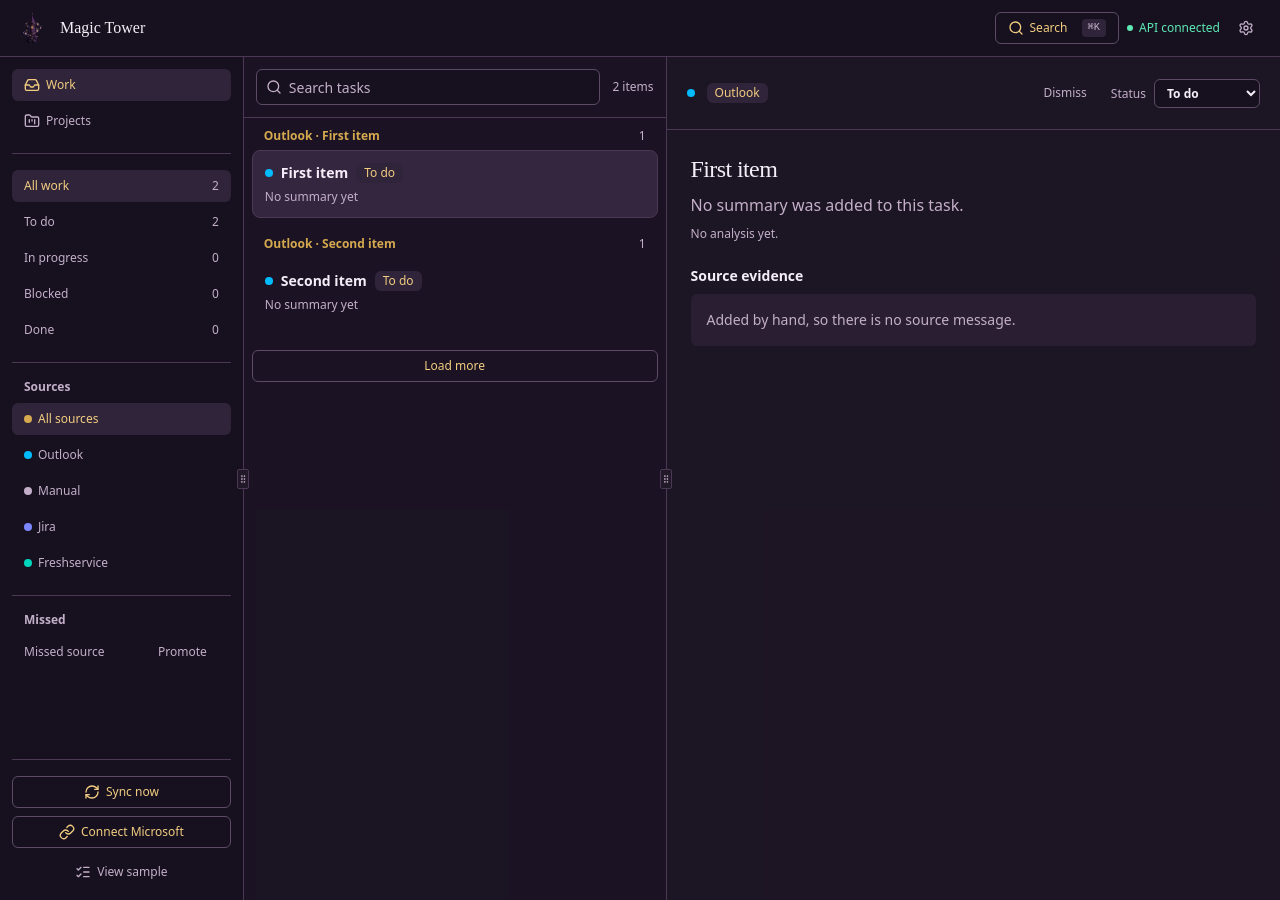
Test: Pagination › pagination requests the next offset when Load more is clicked
The width and height of the screenshot is (1280, 900).
Expected: the text "First item" is shown, [281,163,348,183]
Click the button "Load more" at coordinates (455, 366), box [252,350,658,382]
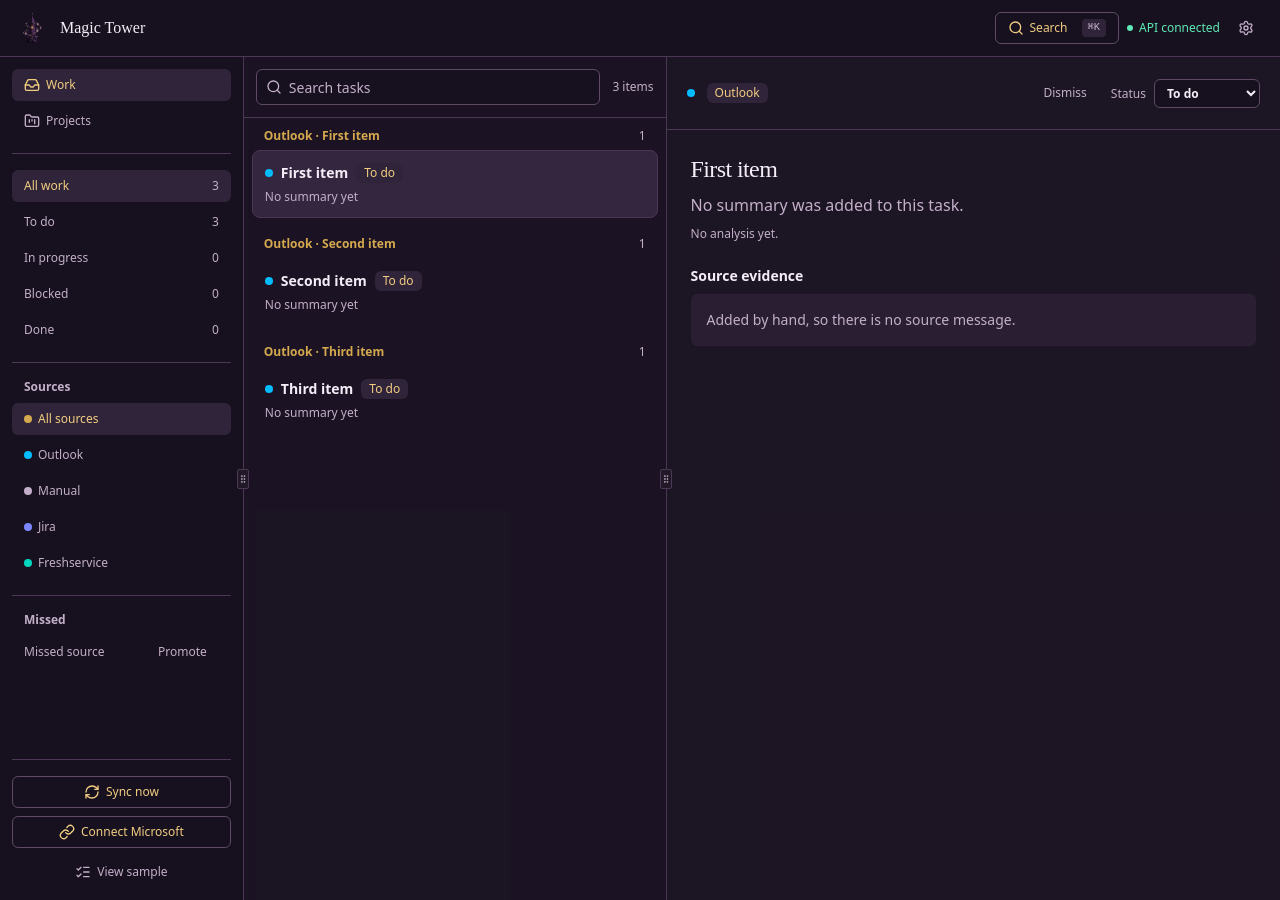
Expected: the text "Third item" is shown, [281,379,353,399]
